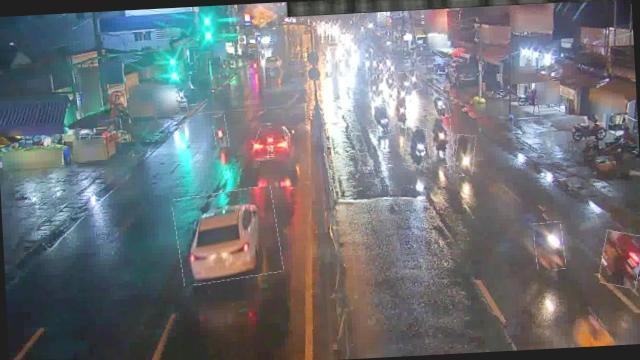Bike: (599, 229, 640, 287), (533, 221, 565, 271), (426, 115, 454, 166), (402, 126, 427, 166), (454, 133, 476, 176), (372, 103, 393, 136), (212, 115, 228, 147), (571, 122, 604, 136), (392, 94, 407, 124), (434, 94, 449, 117), (368, 71, 380, 99), (406, 67, 420, 91), (397, 72, 409, 92), (384, 72, 396, 92)
Car: (172, 187, 281, 284), (253, 121, 291, 164)
